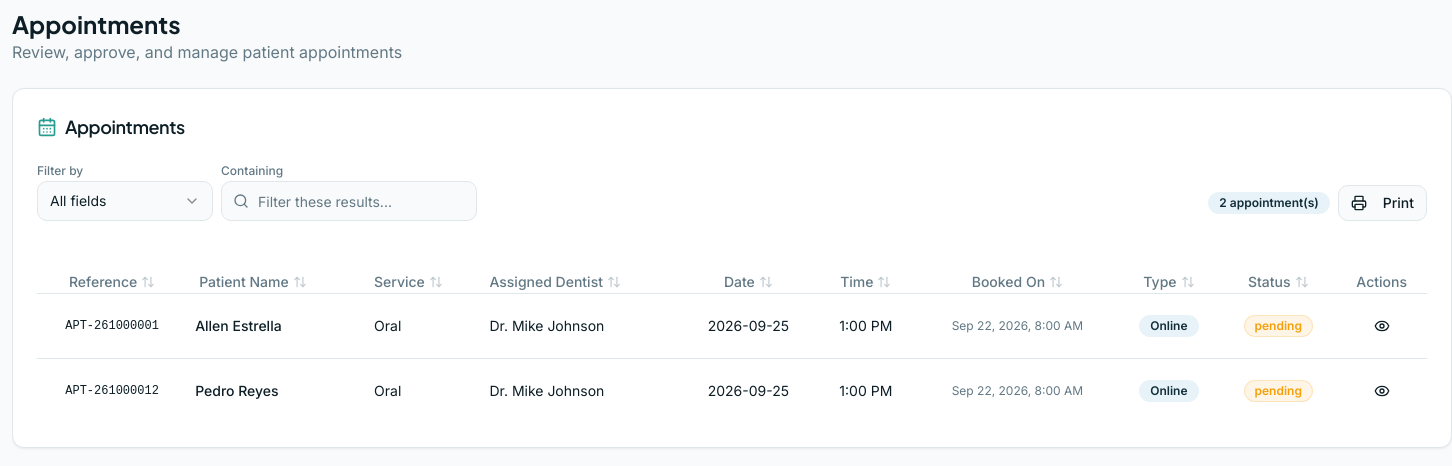
it: the appointments list › shows each appointment's reference, and finds it by that
Expected: the text "Allen Estrella" is shown, [187, 293, 366, 358]
Expected: the text "APT-261000001" is shown, [37, 293, 187, 358]
Type "apt-261000001" into the field labelled "Filter these results".
click(349, 201); type("apt-261000001")  # box [221, 181, 477, 221]
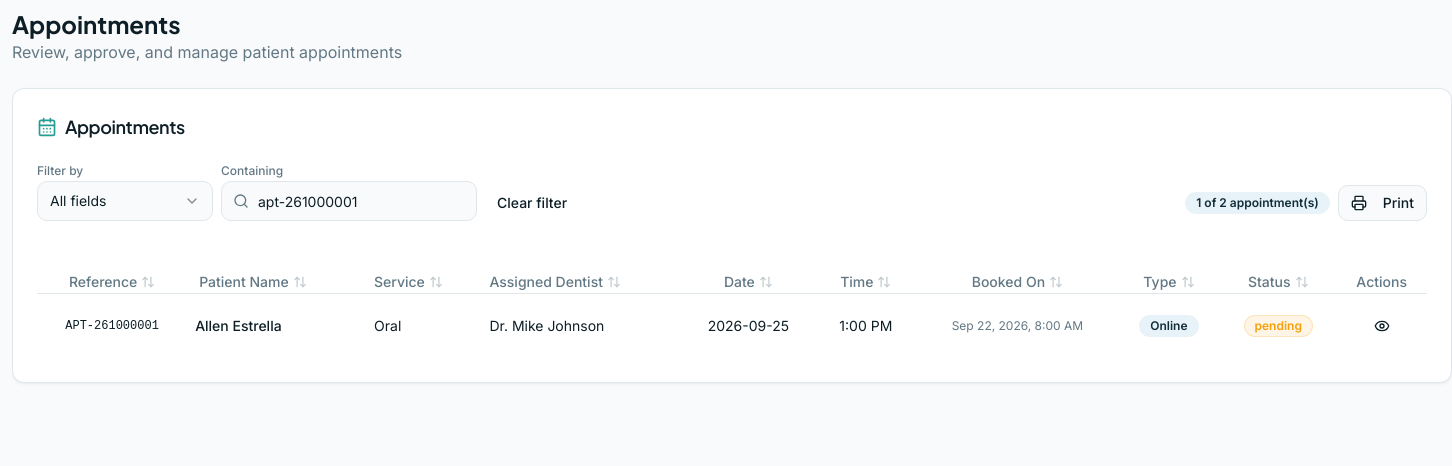
Expected: the text "Allen Estrella" is shown, [187, 293, 366, 358]
Expected: the text "Pedro Reyes" is gone
Replace the text in the field named "Filter these results" with "261000012" at (349, 201), box [221, 181, 477, 221]
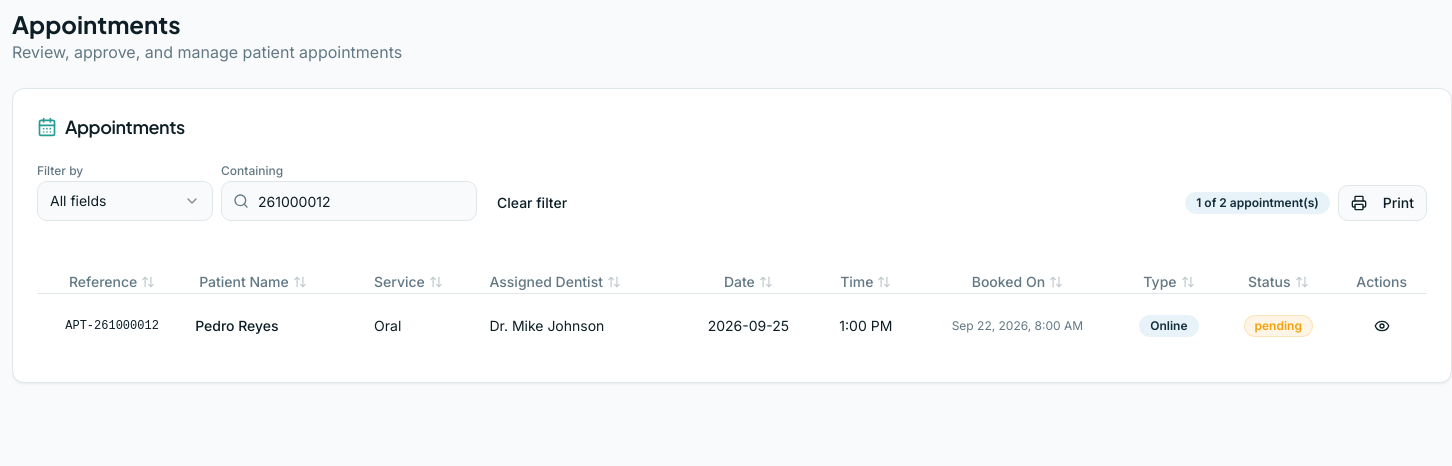
Expected: the text "Pedro Reyes" is shown, [187, 293, 366, 358]
Expected: the text "Allen Estrella" is gone
Replace the text in the field named "Filter these results" with "3f9c2a" at (349, 201), box [221, 181, 477, 221]
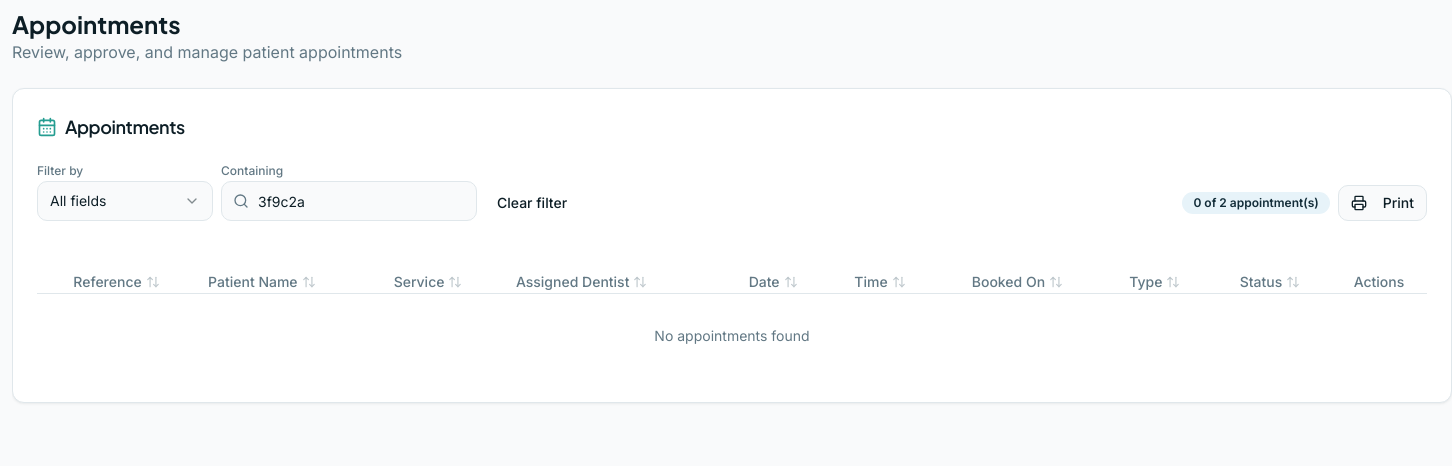
Expected: the text "Allen Estrella" is not shown
Expected: the text "Pedro Reyes" is gone
